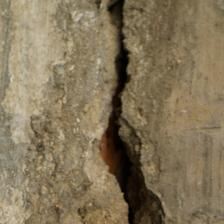Crack: (100, 6, 171, 221)
